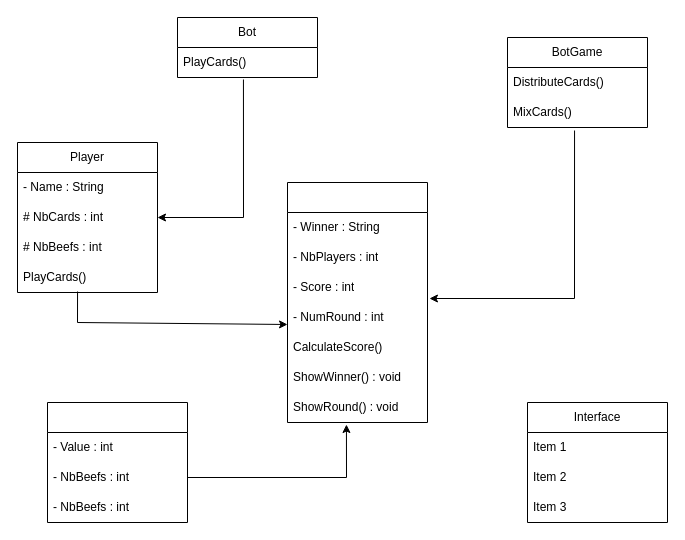
Some shapes in this 685 by 540 pixel diagram are drawn without their labels. Here are the shapes that lost their labels. From the top down, the box of each, then its label:
(286, 182, 428, 422): Game
(46, 402, 188, 522): Card
